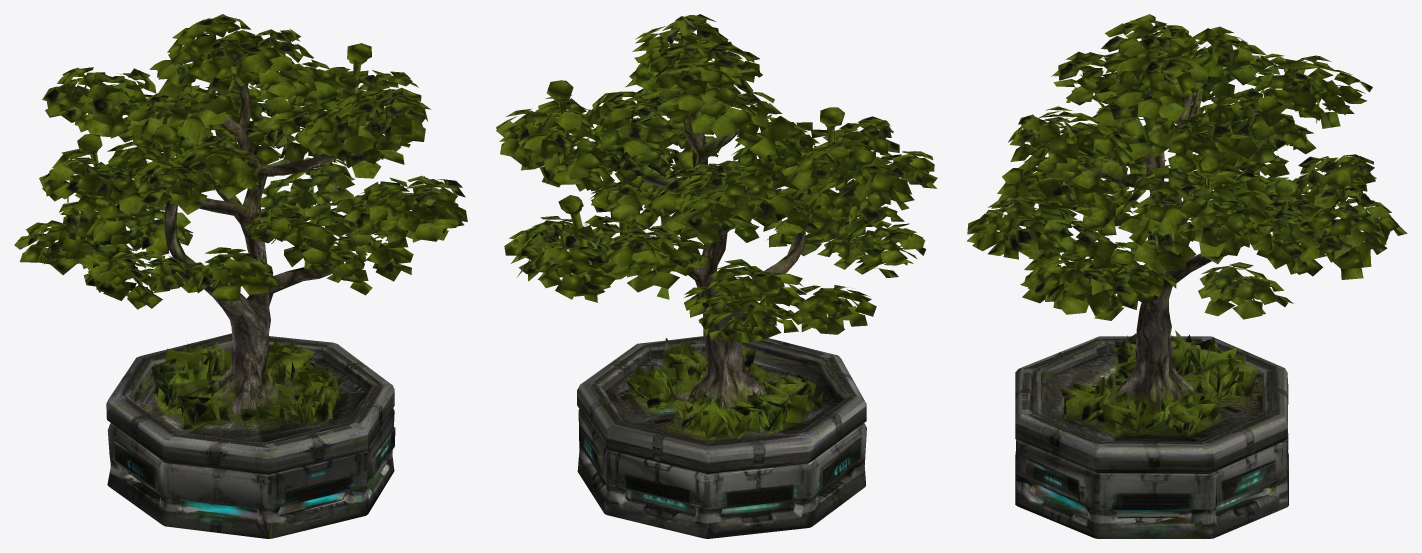
File: cyber-street-tree.glb
3 views of the same model, side by side, from view 1: azimuth 30°, elevation 25°; view 2: azimuth 150°, elevation 25°; view 3: azimuth 270°, elevation 25° (orthographic). The views are drawn at different scales.
Parts seen in each view (by area): view 1: Mesh_0; view 2: Mesh_0; view 3: Mesh_0.
Boxes of the visible parts, box(x1,y1,x2,y2) form: Mesh_0: box(14, 14, 467, 538); Mesh_0: box(496, 14, 937, 538); Mesh_0: box(967, 14, 1407, 538).
Size of the model in its own units: 1.95 by 2 by 1.8.
Materials: 1 (1 with a texture image).
